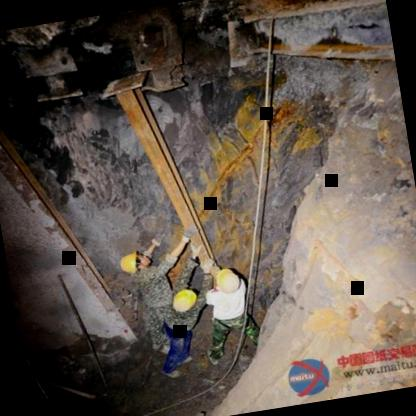helmet: (113, 246, 155, 278), (211, 262, 246, 298), (166, 286, 200, 318)
